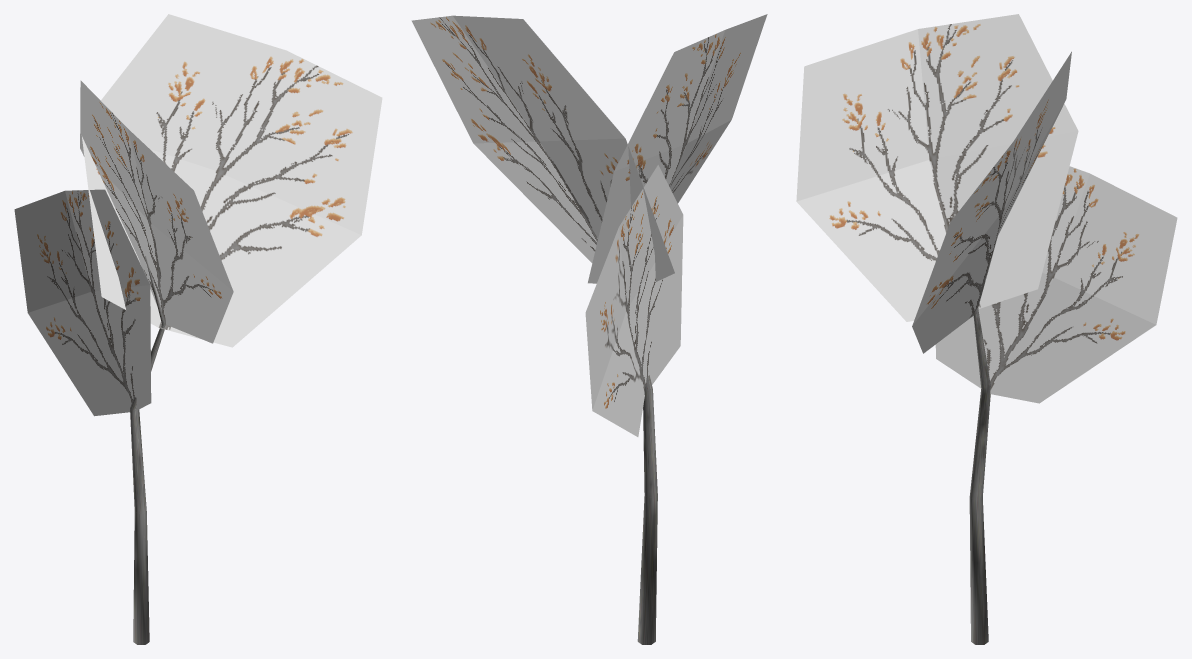
Rendered from TREE_Birch_c.fbx.
The picture shows the model from 3 angles, left to right: view 1: azimuth 30°, elevation 25°; view 2: azimuth 150°, elevation 25°; view 3: azimuth 270°, elevation 25°; orthographic projection. The views are drawn at different scales.
Parts seen in each view (by area): view 1: Tree_Birch_Small; view 2: Tree_Birch_Small; view 3: Tree_Birch_Small.
Boxes of the visible parts, bbox=[...] form: Tree_Birch_Small: bbox=[14, 14, 382, 644]; Tree_Birch_Small: bbox=[411, 14, 767, 644]; Tree_Birch_Small: bbox=[796, 14, 1177, 644].
Bounding box in the file's own units: 462 × 947 × 521.
